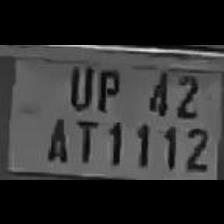1: (126, 116, 152, 168), (153, 118, 179, 170), (100, 116, 126, 164)
2: (178, 121, 210, 173), (169, 66, 200, 118)
4: (143, 63, 171, 117)
A: (40, 112, 70, 162)
P: (92, 62, 122, 110)
T: (71, 114, 102, 162)
U: (64, 58, 94, 108)
